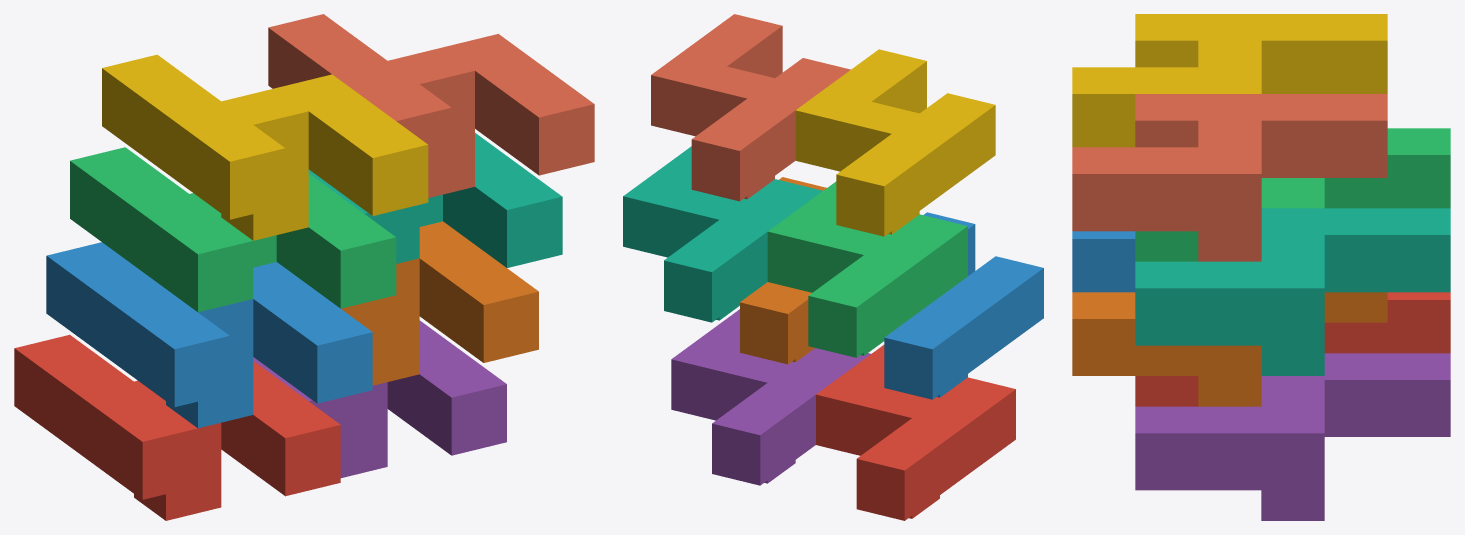
The model's file is tiling.obj.
The picture shows the model from 3 angles, left to right: view 1: azimuth 30°, elevation 25°; view 2: azimuth 150°, elevation 25°; view 3: azimuth 270°, elevation 25°; orthographic projection. The views are drawn at different scales.
Parts seen in each view (by area): view 1: copy_1_domain_4, copy_1_domain_2, copy_1_domain_1, copy_1_domain_8, copy_1_domain_3, copy_1_domain_6, copy_1_domain_5, copy_1_domain_7; view 2: copy_1_domain_4, copy_1_domain_8, copy_1_domain_3, copy_1_domain_1, copy_1_domain_7, copy_1_domain_5, copy_1_domain_2, copy_1_domain_6; view 3: copy_1_domain_8, copy_1_domain_7, copy_1_domain_5, copy_1_domain_4, copy_1_domain_6, copy_1_domain_3, copy_1_domain_1, copy_1_domain_2.
Boxes of the visible parts, x1,y1,x2,y2 form: copy_1_domain_4: [102, 54, 428, 240]; copy_1_domain_2: [46, 242, 372, 428]; copy_1_domain_1: [14, 334, 340, 520]; copy_1_domain_8: [268, 14, 594, 197]; copy_1_domain_3: [70, 147, 396, 312]; copy_1_domain_6: [341, 221, 538, 385]; copy_1_domain_5: [253, 320, 506, 477]; copy_1_domain_7: [308, 133, 562, 267]; copy_1_domain_4: [795, 49, 995, 236]; copy_1_domain_8: [651, 14, 850, 201]; copy_1_domain_3: [767, 181, 967, 357]; copy_1_domain_1: [816, 345, 1015, 520]; copy_1_domain_7: [623, 146, 822, 322]; copy_1_domain_5: [671, 309, 870, 485]; copy_1_domain_2: [884, 212, 1043, 399]; copy_1_domain_6: [740, 177, 826, 364]; copy_1_domain_8: [1072, 94, 1387, 261]; copy_1_domain_7: [1135, 208, 1450, 375]; copy_1_domain_5: [1135, 353, 1450, 520]; copy_1_domain_4: [1072, 14, 1387, 147]; copy_1_domain_6: [1072, 292, 1387, 406]; copy_1_domain_3: [1135, 128, 1450, 261]; copy_1_domain_1: [1135, 292, 1450, 406]; copy_1_domain_2: [1072, 231, 1135, 292].
Size of the model in its own units: 7 by 7 by 6.
